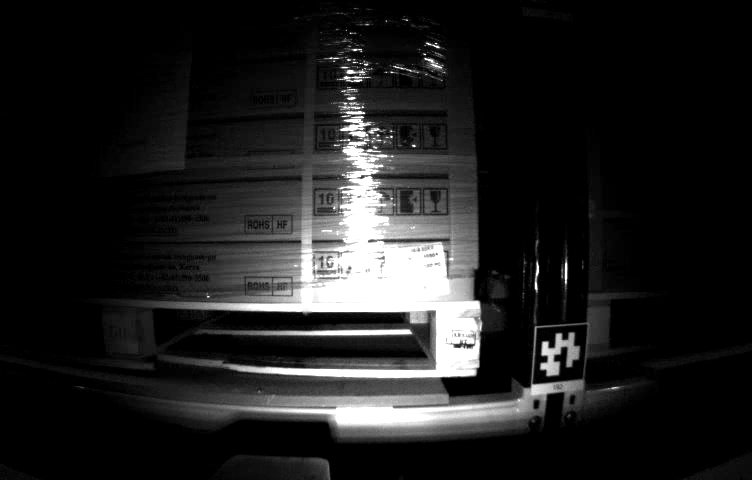True Barcode: (385, 242, 453, 302)
